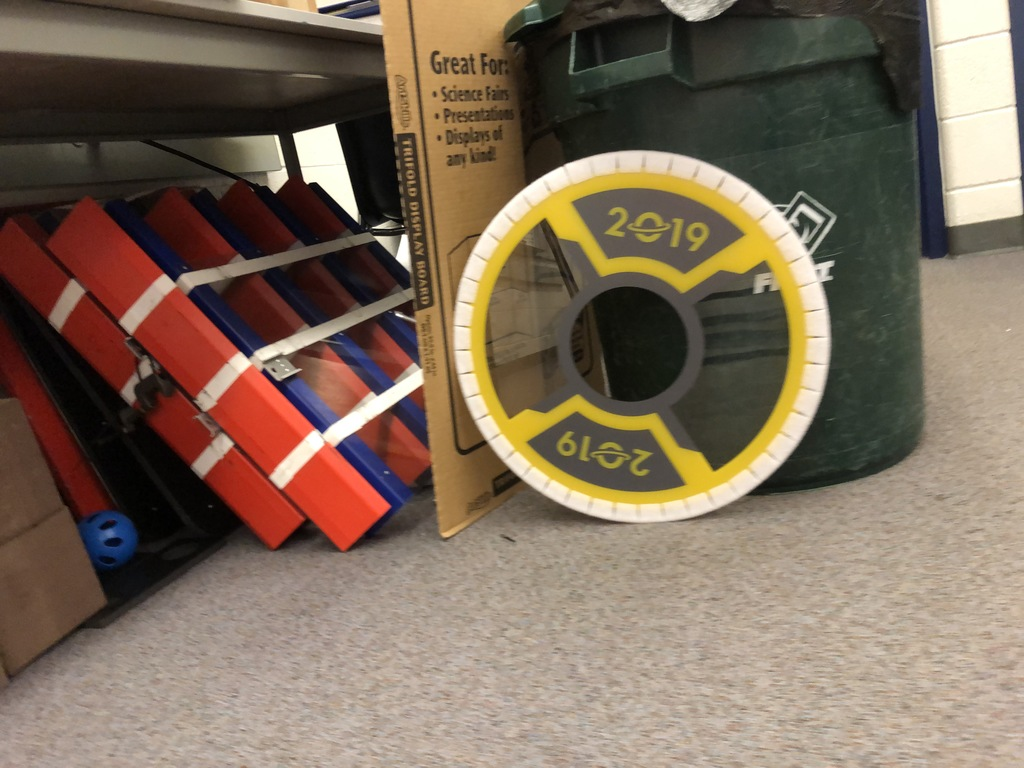hatch_panel: (446, 142, 846, 548)
